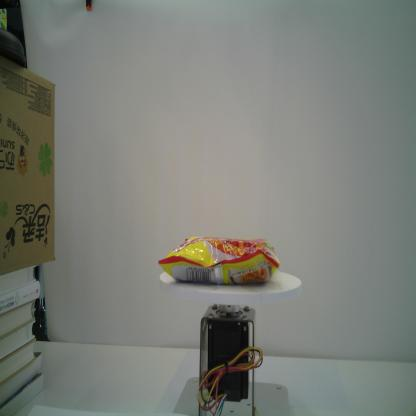Instant Noodles: (158, 236, 280, 284)
